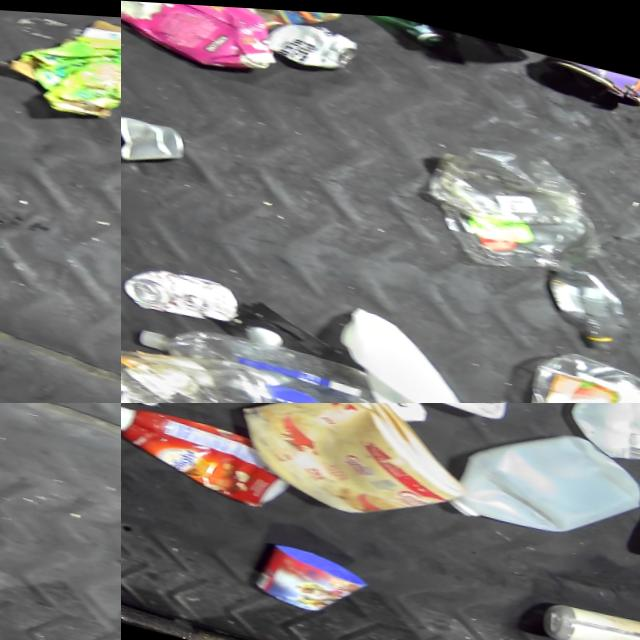can: (121, 256, 241, 329), (262, 10, 365, 78), (121, 111, 191, 175)
milk_jug: (438, 403, 640, 552), (315, 297, 496, 403), (214, 403, 432, 440), (557, 403, 640, 465)
non_white_jug: (220, 403, 482, 537), (121, 403, 296, 515), (121, 0, 291, 82)
plastic_bottle: (122, 305, 399, 403), (530, 254, 640, 355), (302, 8, 454, 48)
